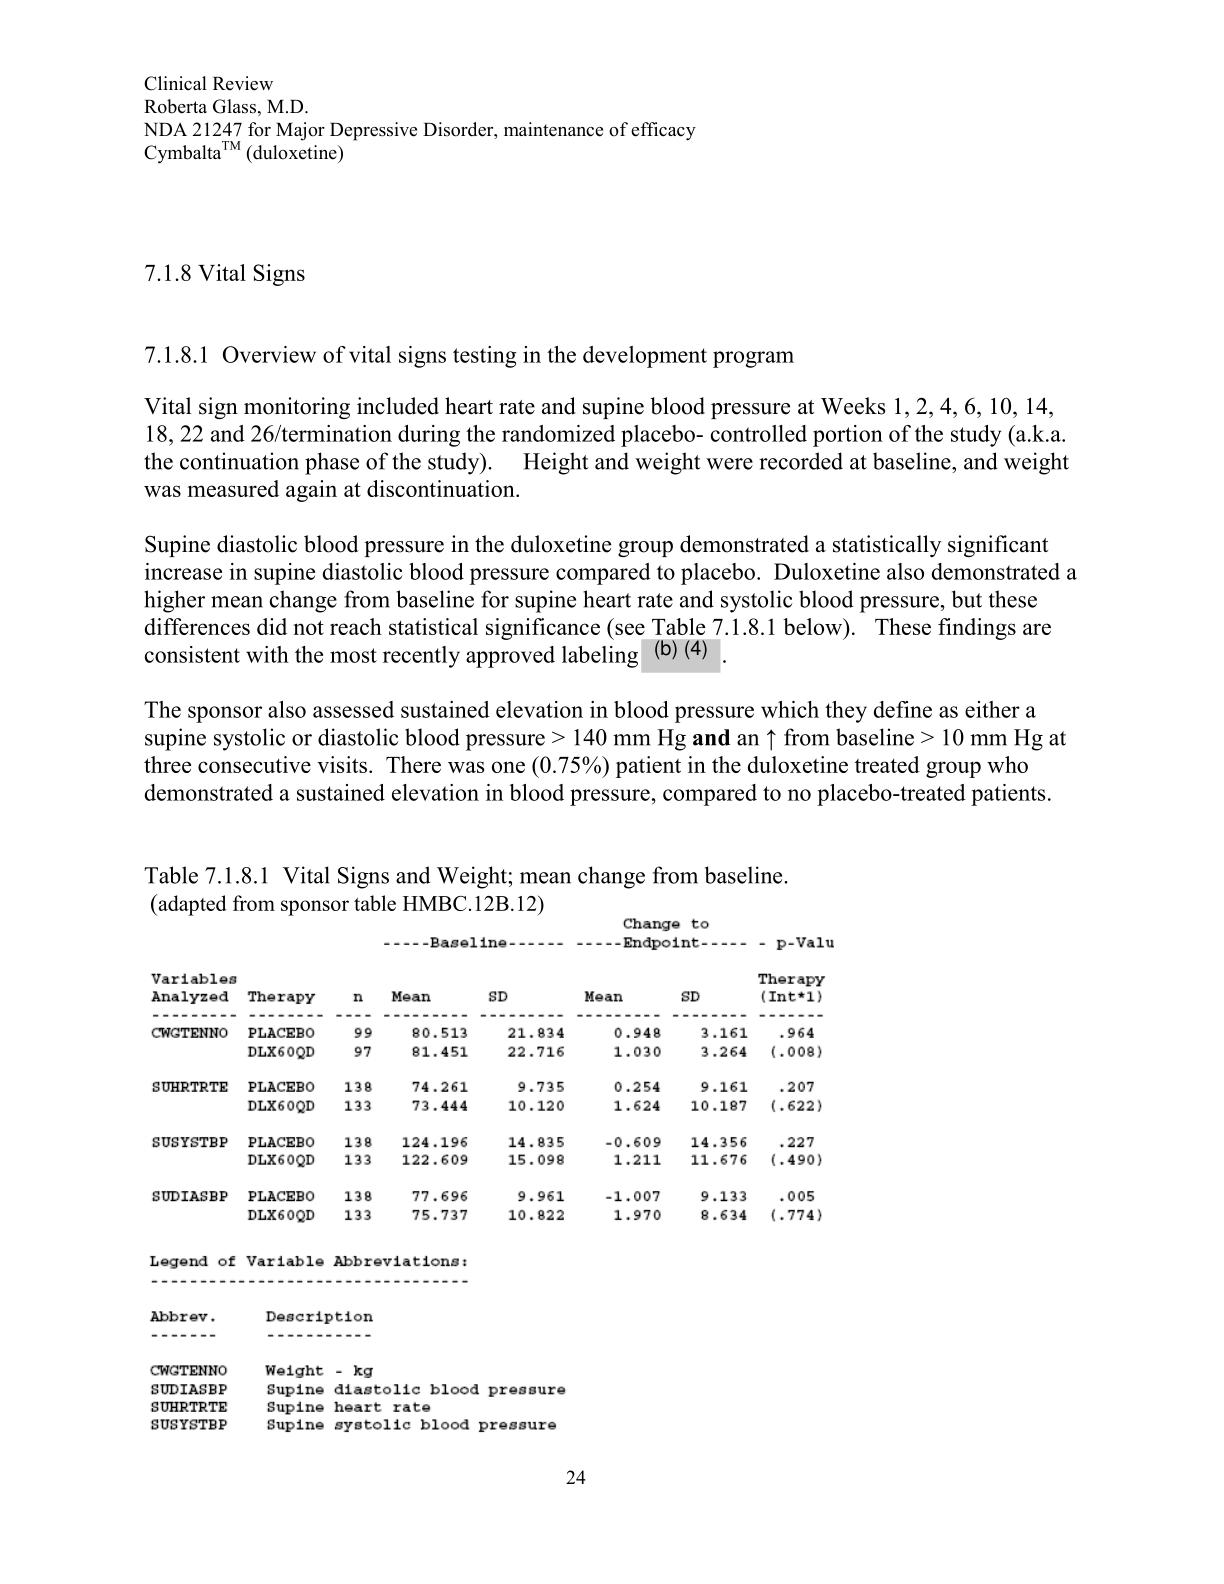partial_lined: (147, 1306, 570, 1434)
partial_lined_merged_cells: (150, 933, 838, 1227)
